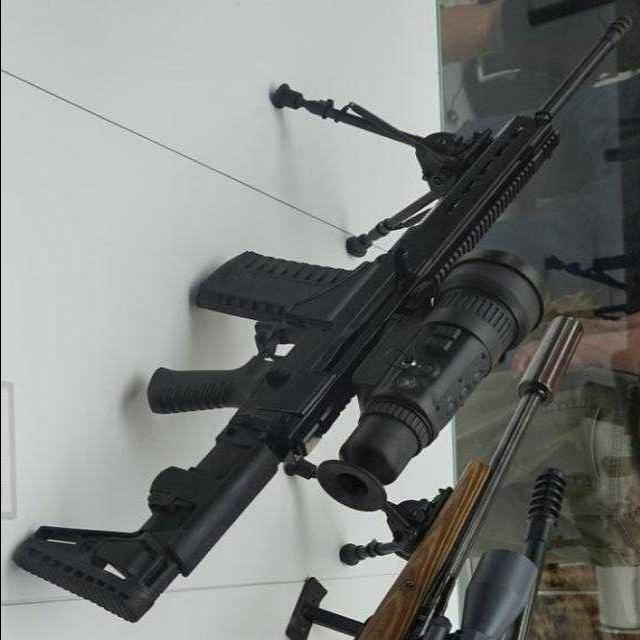heavyweapon: (11, 7, 634, 626)
